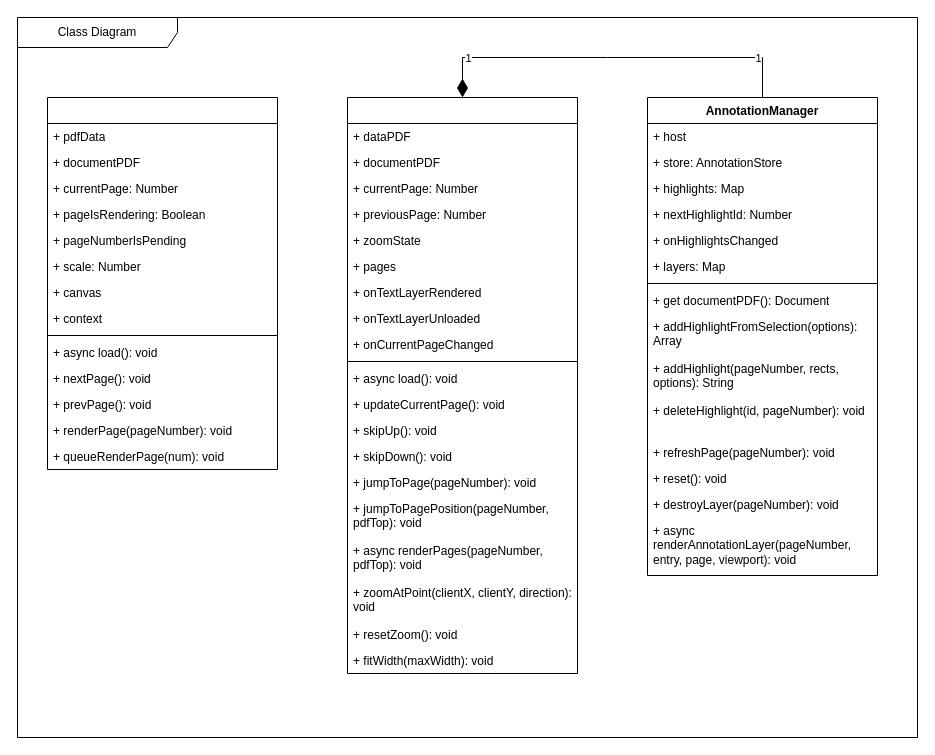
Some shapes in this 935 by 755 pixel diagram are drawn without their labels. Each missing label, with the box of its shape:
PdfPresentationViewer: (46, 96, 278, 470)
PdfViewer: (346, 96, 578, 674)
